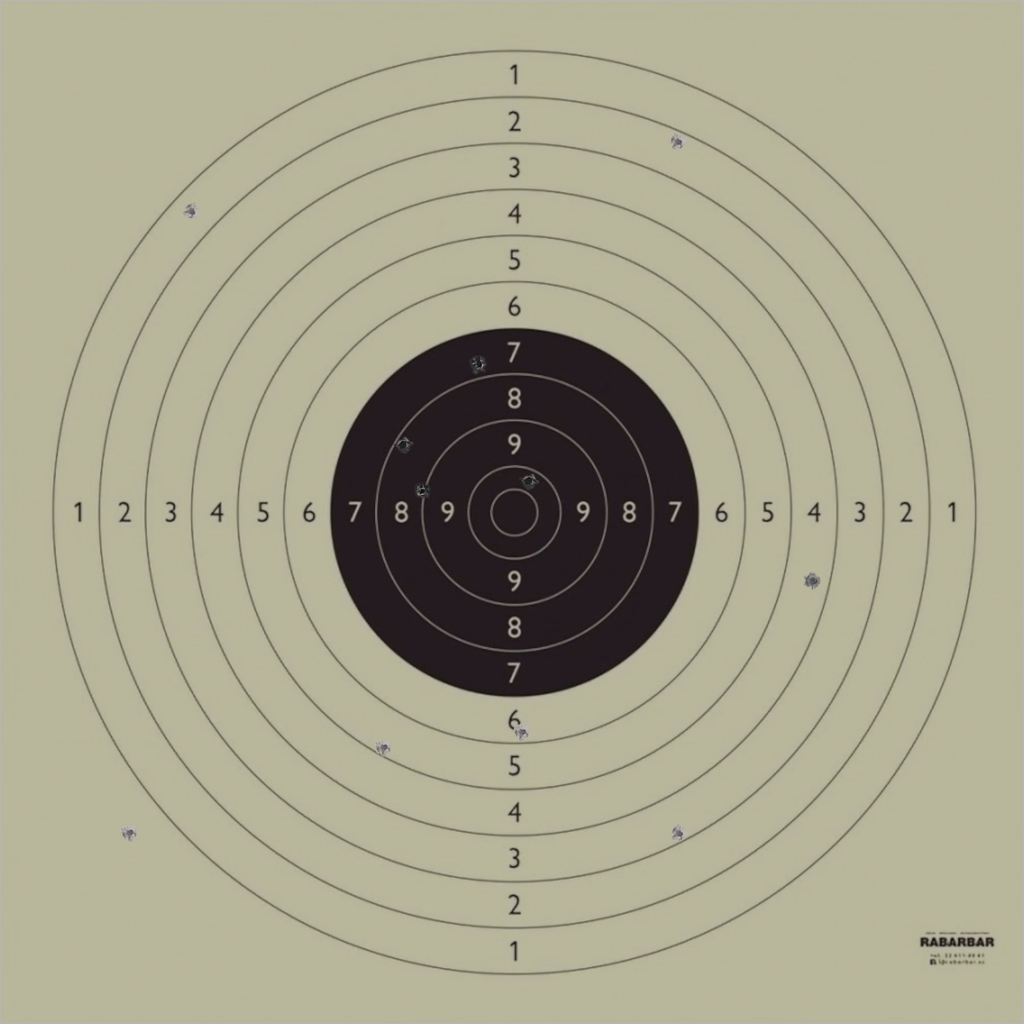0 punktow: (121, 824, 139, 842)
1 punkt: (183, 202, 201, 221)
10 punktow: (520, 472, 538, 490)
2 punkty: (669, 133, 687, 151)
3 punkty: (670, 824, 688, 843)
4 punkty: (804, 572, 822, 590)
5 punktow: (375, 738, 393, 757)
6 punktow: (513, 723, 532, 741)
7 punktow: (470, 355, 488, 374)
8 punktow: (394, 435, 412, 454)
9 punktow: (413, 482, 431, 501)
